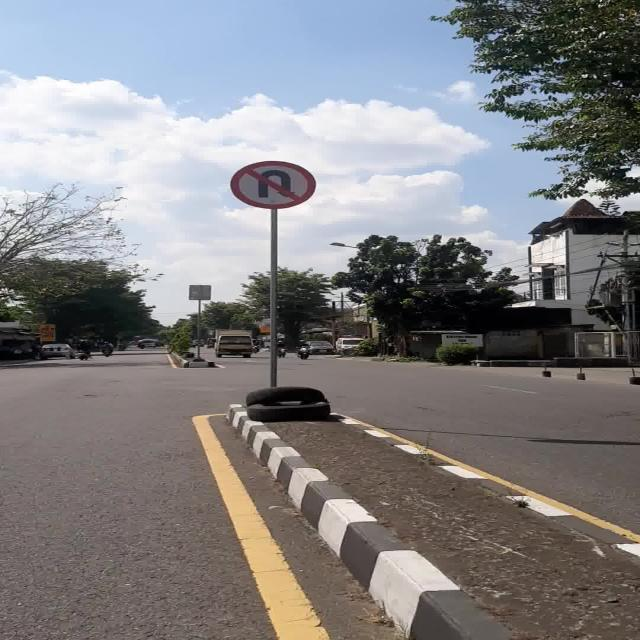Dilarang Putar Balik: (230, 160, 316, 209)
